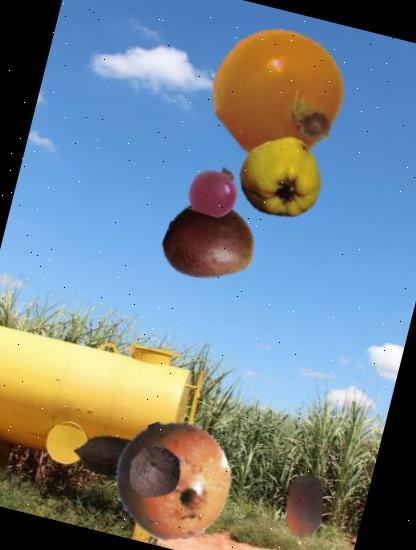Cocos: (119, 438, 191, 510)
Granadilla: (99, 407, 246, 550)
Hazelnut: (266, 470, 341, 544)
Mango: (156, 188, 266, 297)
Nut: (64, 408, 162, 506)
Physalis: (198, 11, 364, 178)
Quince: (230, 128, 332, 229)
Redcurrant: (183, 160, 246, 222)
